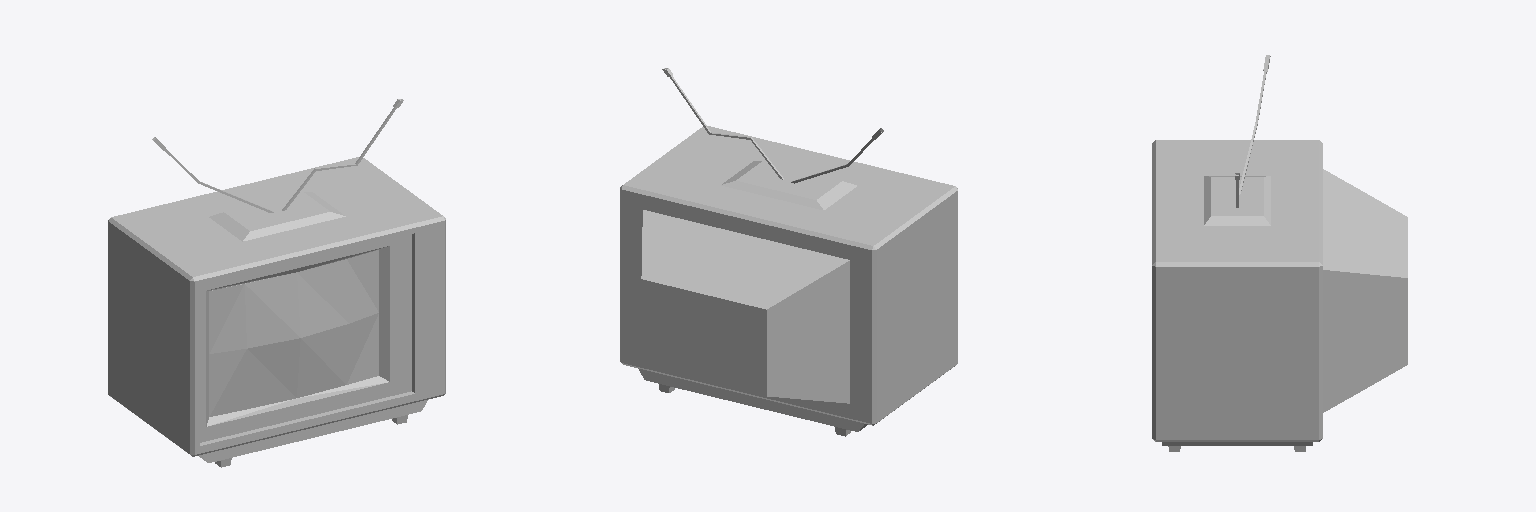
Rendered from tvSet.obj.
3 views of the same model, side by side, from view 1: azimuth 30°, elevation 25°; view 2: azimuth 150°, elevation 25°; view 3: azimuth 270°, elevation 25° (orthographic).
Visible parts, largest first — view 1: tvSet; view 2: tvSet; view 3: tvSet.
Part boxes in pixels (left/top/right/bottom): tvSet: left=108, top=99, right=445, bottom=467; tvSet: left=620, top=68, right=957, bottom=436; tvSet: left=1152, top=55, right=1407, bottom=451.
Bounding box in the file's own units: 3.75 × 4.16 × 3.23.